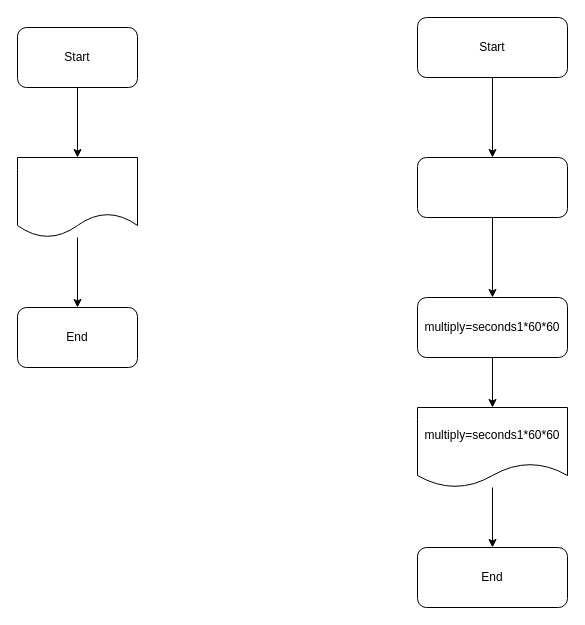
The diagram is 585 pixels wide and 625 high, and some of its shapes have lost their labels. The centre of each missing label's shape, as x and y in pixels:
"chavi": point 77,197
seconds1: point 492,187
